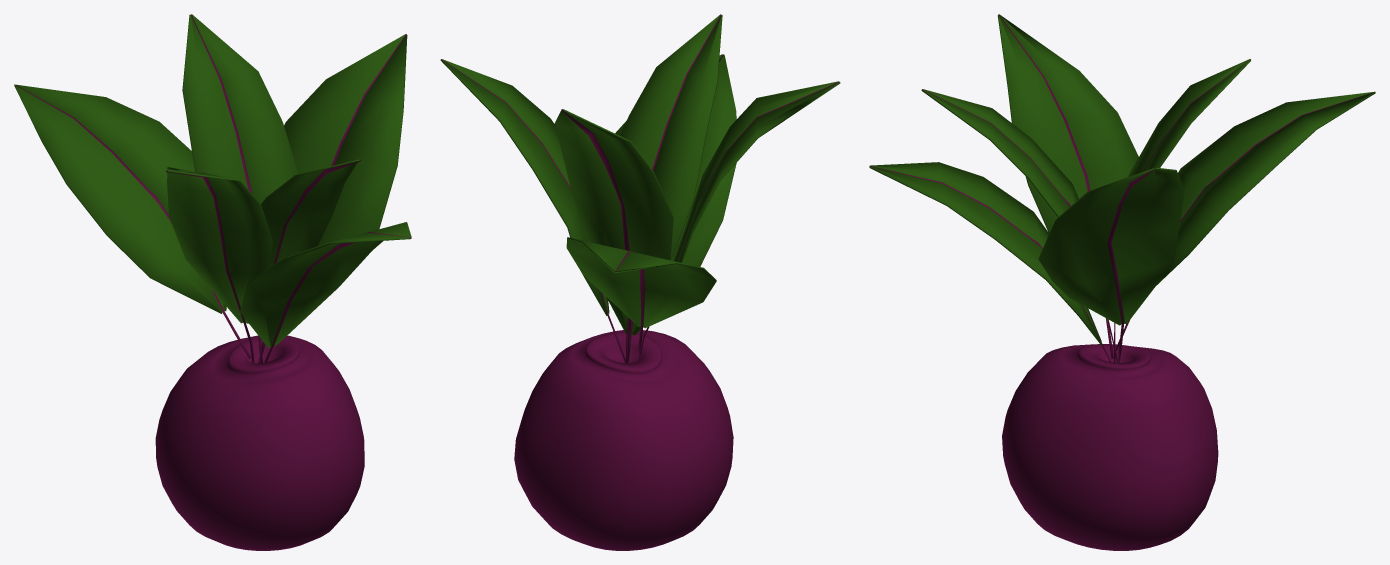
Rendered from BeterrabaMadura.fbx.
The picture shows the model from 3 angles, left to right: view 1: azimuth 30°, elevation 25°; view 2: azimuth 150°, elevation 25°; view 3: azimuth 270°, elevation 25°; orthographic projection.
Visible parts, largest first — view 1: BeterrabaMadura; view 2: BeterrabaMadura; view 3: BeterrabaMadura.
Part boxes in pixels (x1,y1,x2,y2): BeterrabaMadura: (14, 14, 411, 550); BeterrabaMadura: (440, 14, 840, 550); BeterrabaMadura: (869, 14, 1375, 550).
Size of the model in its own units: 10.8 by 15.05 by 14.78.
